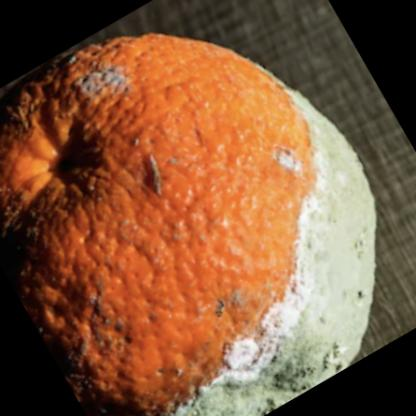rotten: (1, 35, 378, 415)
